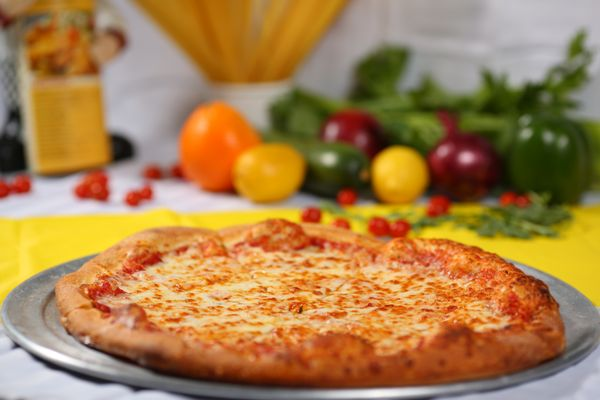steak: (427, 132, 503, 200)
taco: (178, 100, 263, 190), (231, 142, 308, 204), (370, 143, 431, 204)
